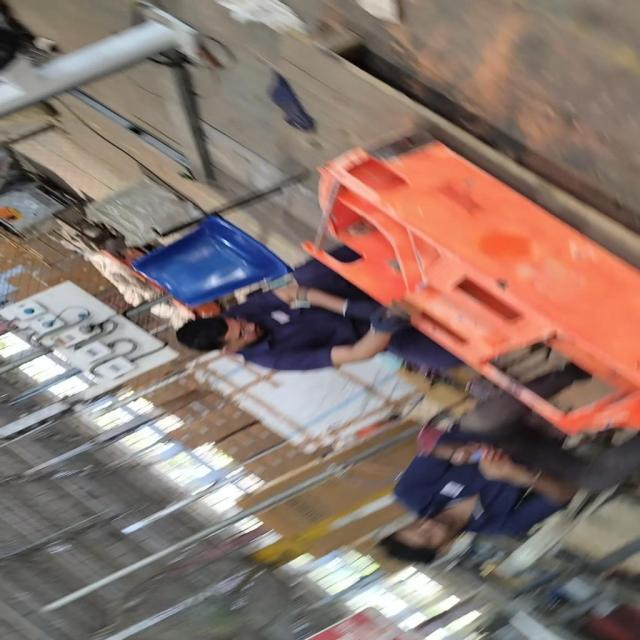Gloves-Detection: (336, 296, 402, 345)
